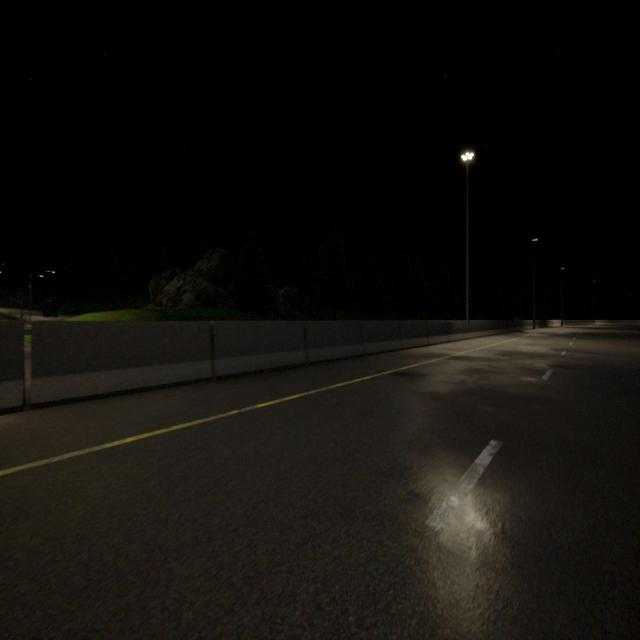Vehicle: (43, 309, 58, 317)
